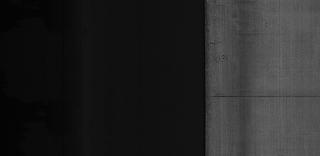scratches: (206, 91, 320, 101)
